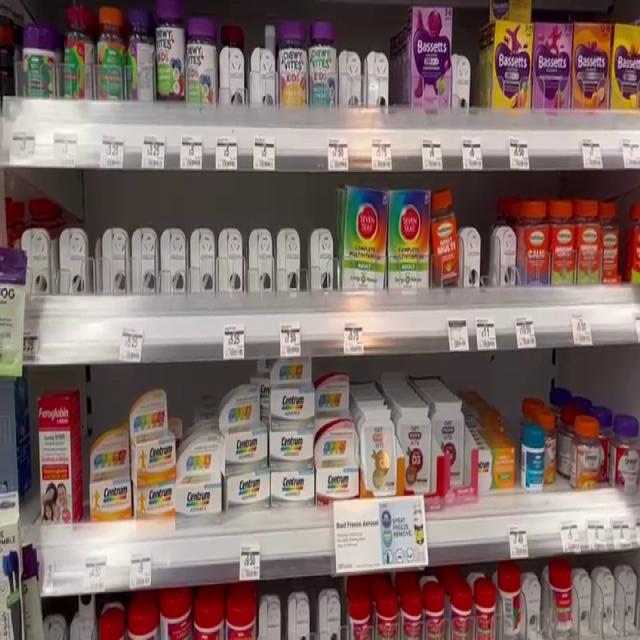Other: (37, 397, 81, 529), (339, 183, 388, 298), (407, 2, 455, 115), (385, 190, 433, 296), (173, 428, 226, 523), (529, 17, 575, 121), (216, 385, 271, 469), (128, 389, 179, 478), (87, 428, 135, 522), (570, 18, 614, 118), (308, 424, 360, 508), (489, 18, 534, 115), (357, 401, 401, 498), (182, 13, 220, 115), (426, 395, 467, 488), (396, 399, 434, 499), (306, 16, 341, 122), (93, 4, 129, 106), (276, 17, 313, 116), (64, 8, 99, 109), (268, 355, 314, 431), (22, 28, 64, 108), (428, 185, 461, 282), (520, 195, 553, 285), (609, 19, 640, 112), (569, 412, 603, 495), (313, 372, 356, 436), (220, 463, 274, 512), (268, 458, 317, 512), (574, 199, 603, 285), (550, 198, 578, 285), (550, 559, 579, 640), (533, 410, 565, 482), (269, 424, 319, 468), (496, 562, 524, 640), (598, 197, 622, 286), (612, 413, 640, 488), (129, 477, 181, 517), (469, 444, 518, 485), (226, 587, 262, 640), (520, 428, 548, 496), (421, 581, 452, 640), (194, 589, 228, 640), (371, 586, 403, 640), (472, 576, 496, 640), (450, 583, 476, 640), (161, 595, 193, 640), (348, 590, 374, 640), (400, 584, 423, 640), (629, 201, 640, 301)
